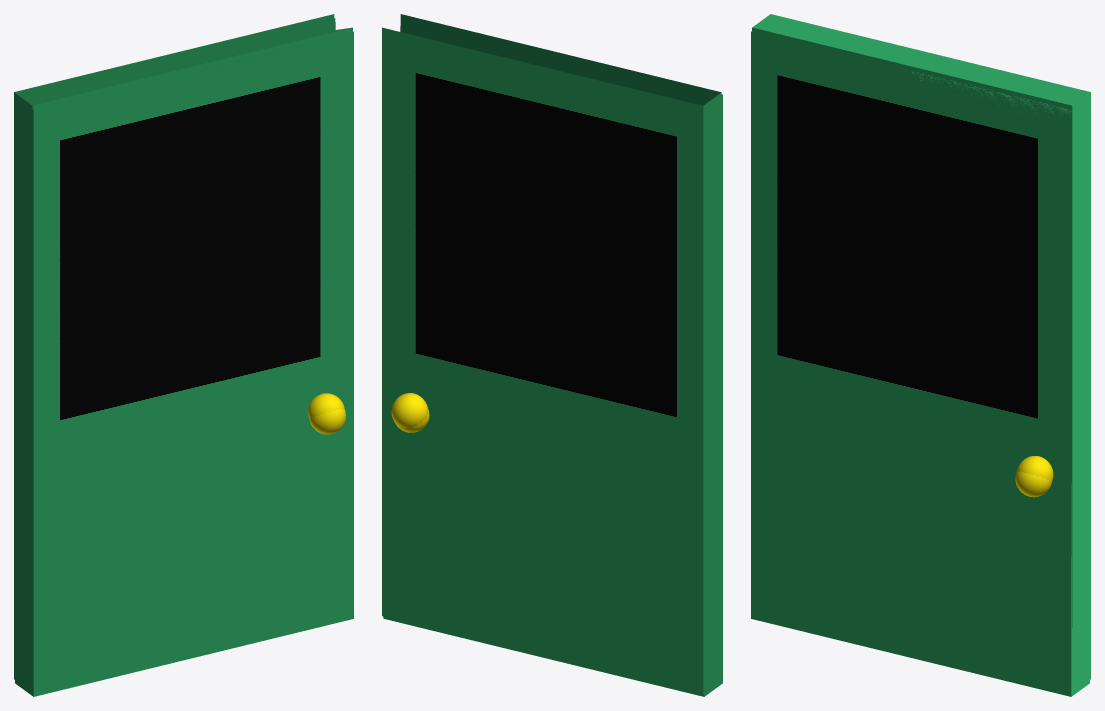
File: puertas.obj
3 views of the same model, side by side, from view 1: azimuth 30°, elevation 25°; view 2: azimuth 150°, elevation 25°; view 3: azimuth 330°, elevation 25° (orthographic).
Parts seen in each view (by area): view 1: pasted__polySurface9, pasted__pasted__polySurface9 group55; view 2: pasted__pasted__polySurface9 group55, pasted__polySurface9; view 3: pasted__polySurface9, pasted__pasted__polySurface9 group55.
Boxes of the visible parts, x1,y1,x2,y2 form: pasted__polySurface9: (15, 18, 353, 696); pasted__pasted__polySurface9 group55: (14, 14, 352, 679); pasted__pasted__polySurface9 group55: (382, 14, 721, 694); pasted__polySurface9: (383, 94, 722, 696); pasted__polySurface9: (751, 31, 1089, 696); pasted__pasted__polySurface9 group55: (752, 14, 1090, 692).
Size of the model in its own units: 0.999 by 1.76 by 0.2574.
2 materials, 2 textured.
